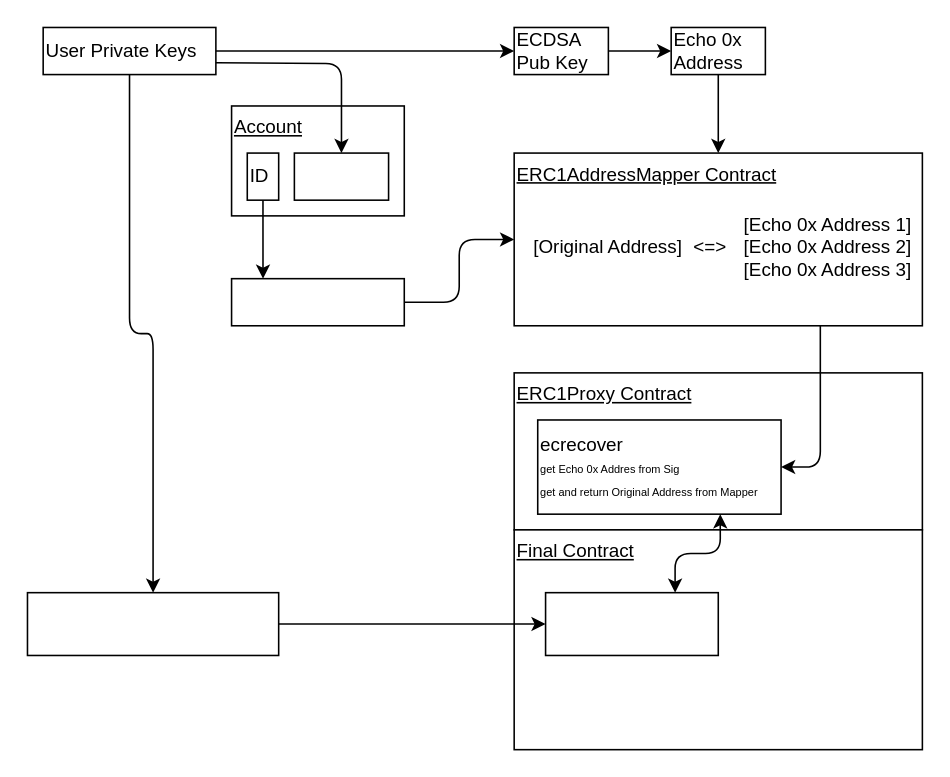
This 950x777 diagram has some shape labels left out. Here are the shapes that lost their labels. From the top down, the box of each, then its label:
(293, 152, 389, 200): EdDSA Pub Keys
(230, 277, 404, 326): Original Address
(26, 591, 279, 655): - Signed data - ECDSA Signature
(544, 591, 718, 655): contract method
